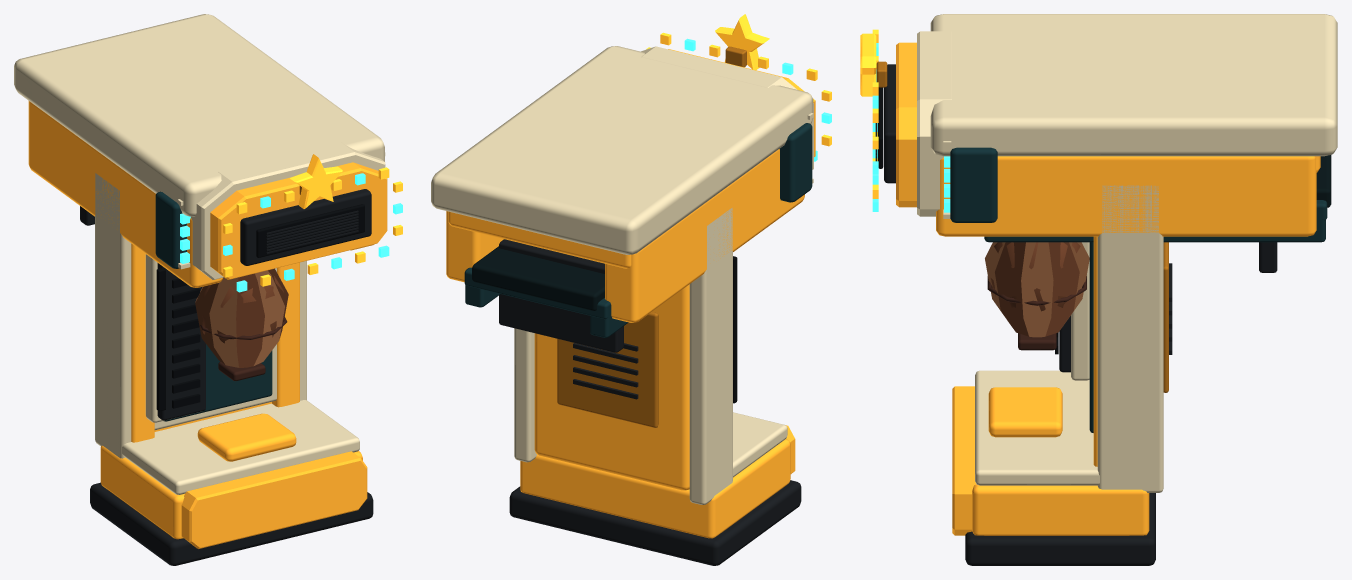
The model's file is punch-machine.glb.
The picture shows the model from 3 angles, left to right: view 1: azimuth 30°, elevation 25°; view 2: azimuth 150°, elevation 25°; view 3: azimuth 270°, elevation 25°; orthographic projection. The views are drawn at different scales.
Visible parts, largest first — view 1: head_top_cream, base_front_chamfer, base_cream_cap, outer_cream_left_rail, head_left_cheek, marquee_face, bag_worn_leather_facets, base_foot, marquee_cream_bezel, base_body, display_top_housing, score_track_housing (+13 smaller); view 2: head_top_cream, rear_cabinet, base_body, outer_cream_left_rail, head_left_cheek, base_foot, back_service_hatch, cavity_roof, cavity_back_wall, outer_cream_right_rail, head_top_red, marquee_cream_bezel (+8 smaller); view 3: head_top_cream, head_right_cheek, outer_cream_right_rail, base_cream_cap, base_body, bag_worn_leather_facets, base_foot, marquee_cream_bezel, platform_pad, cyan_light_housing_1, marquee_face, base_front_chamfer (+11 smaller).
Part boxes in pixels (x1,y1,x2,y2): head_top_cream: (14,14,384,216); base_front_chamfer: (181,451,367,548); base_cream_cap: (122,400,359,494); outer_cream_left_rail: (95,173,131,458); head_left_cheek: (28,101,222,287); marquee_face: (210,162,387,279); bag_worn_leather_facets: (195,268,288,367); base_foot: (90,482,373,565); marquee_cream_bezel: (191,142,385,279); base_body: (100,445,362,539); display_top_housing: (240,189,371,265); score_track_housing: (157,263,205,420); head_top_cream: (431,46,813,254); rear_cabinet: (534,284,689,490); base_body: (520,439,790,538); outer_cream_left_rail: (689,208,732,504); head_left_cheek: (605,149,804,322); base_foot: (509,480,801,565); back_service_hatch: (557,312,658,427); cavity_roof: (472,246,604,310); cavity_back_wall: (499,239,623,352); outer_cream_right_rail: (514,328,536,462); head_top_red: (448,211,631,268); marquee_cream_bezel: (641,46,813,169); head_top_cream: (930,14,1337,156); head_right_cheek: (936,156,1316,236); outer_cream_right_rail: (1097,185,1163,492); base_cream_cap: (975,370,1099,485); base_body: (972,484,1149,535); bag_worn_leather_facets: (985,242,1089,337); base_foot: (965,493,1155,565); marquee_cream_bezel: (917,31,951,216); platform_pad: (988,387,1062,437); cyan_light_housing_1: (950,147,997,222); marquee_face: (896,42,916,207); base_front_chamfer: (952,386,976,535).
Bounding box in the file's own units: 2.14 × 4.07 × 3.68.
